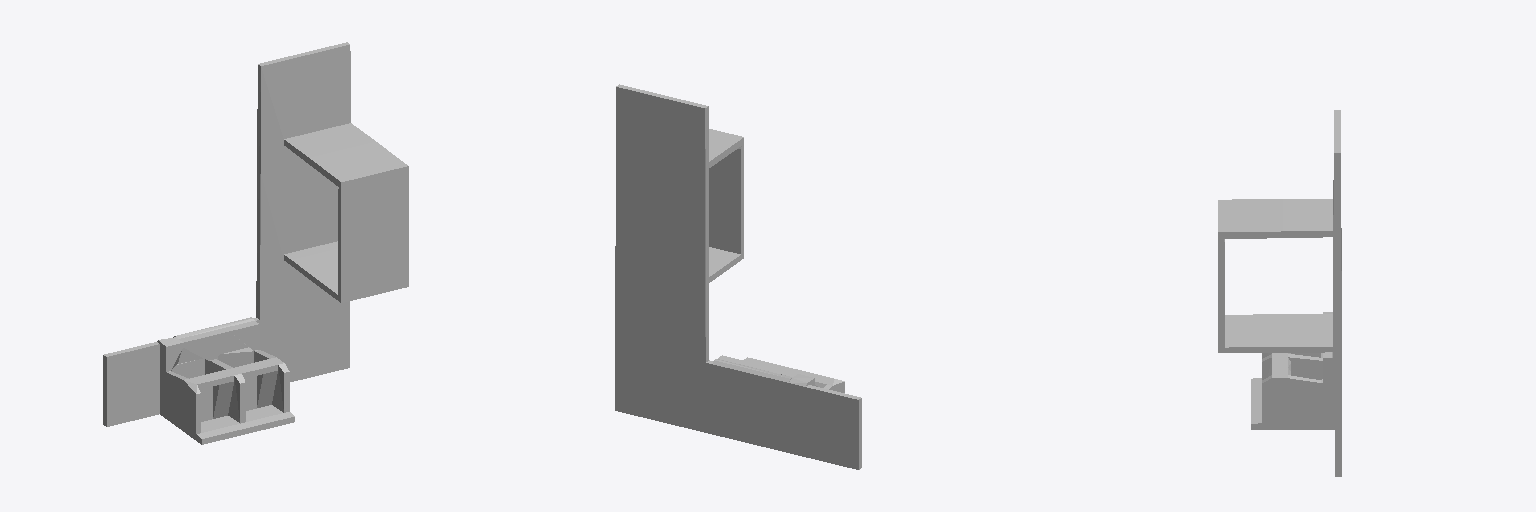
File: industrial-acd.obj
3 renders of one model, left to right at view 1: azimuth 30°, elevation 25°; view 2: azimuth 150°, elevation 25°; view 3: azimuth 270°, elevation 25°, orthographic.
Parts seen in each view (by area): view 1: convex_0, convex_6, convex_3, convex_1, convex_2, convex_5, convex_10, convex_20, convex_11, convex_8, convex_22, convex_7 (+3 smaller); view 2: convex_0, convex_1, convex_6, convex_12, convex_14, convex_19, convex_3, convex_5, convex_9; view 3: convex_3, convex_5, convex_0, convex_8, convex_2, convex_11, convex_6, convex_19.
Part boxes in pixels (bbox=[...]): convex_0: bbox=[256, 42, 350, 381]; convex_6: bbox=[338, 173, 408, 302]; convex_3: bbox=[284, 123, 408, 188]; convex_1: bbox=[103, 342, 159, 426]; convex_2: bbox=[167, 405, 294, 444]; convex_5: bbox=[284, 241, 337, 299]; convex_10: bbox=[167, 372, 200, 433]; convex_20: bbox=[179, 327, 233, 360]; convex_11: bbox=[205, 359, 245, 423]; convex_8: bbox=[254, 350, 289, 412]; convex_22: bbox=[212, 370, 233, 418]; convex_7: bbox=[255, 359, 277, 407]; convex_0: bbox=[615, 84, 708, 432]; convex_1: bbox=[806, 385, 861, 469]; convex_6: bbox=[709, 145, 743, 259]; convex_12: bbox=[749, 397, 805, 456]; convex_14: bbox=[712, 359, 791, 405]; convex_19: bbox=[712, 388, 748, 436]; convex_3: bbox=[709, 129, 743, 167]; convex_5: bbox=[709, 247, 740, 282]; convex_9: bbox=[789, 374, 814, 409]; convex_3: bbox=[1218, 199, 1332, 238]; convex_5: bbox=[1225, 314, 1332, 352]; convex_0: bbox=[1333, 110, 1341, 476]; convex_8: bbox=[1262, 375, 1320, 422]; convex_2: bbox=[1251, 378, 1334, 429]; convex_11: bbox=[1262, 354, 1322, 379]; convex_6: bbox=[1218, 239, 1224, 352]; convex_19: bbox=[1321, 379, 1333, 422].
Size of the model in its own units: 1.1 by 1.41 by 0.4868.